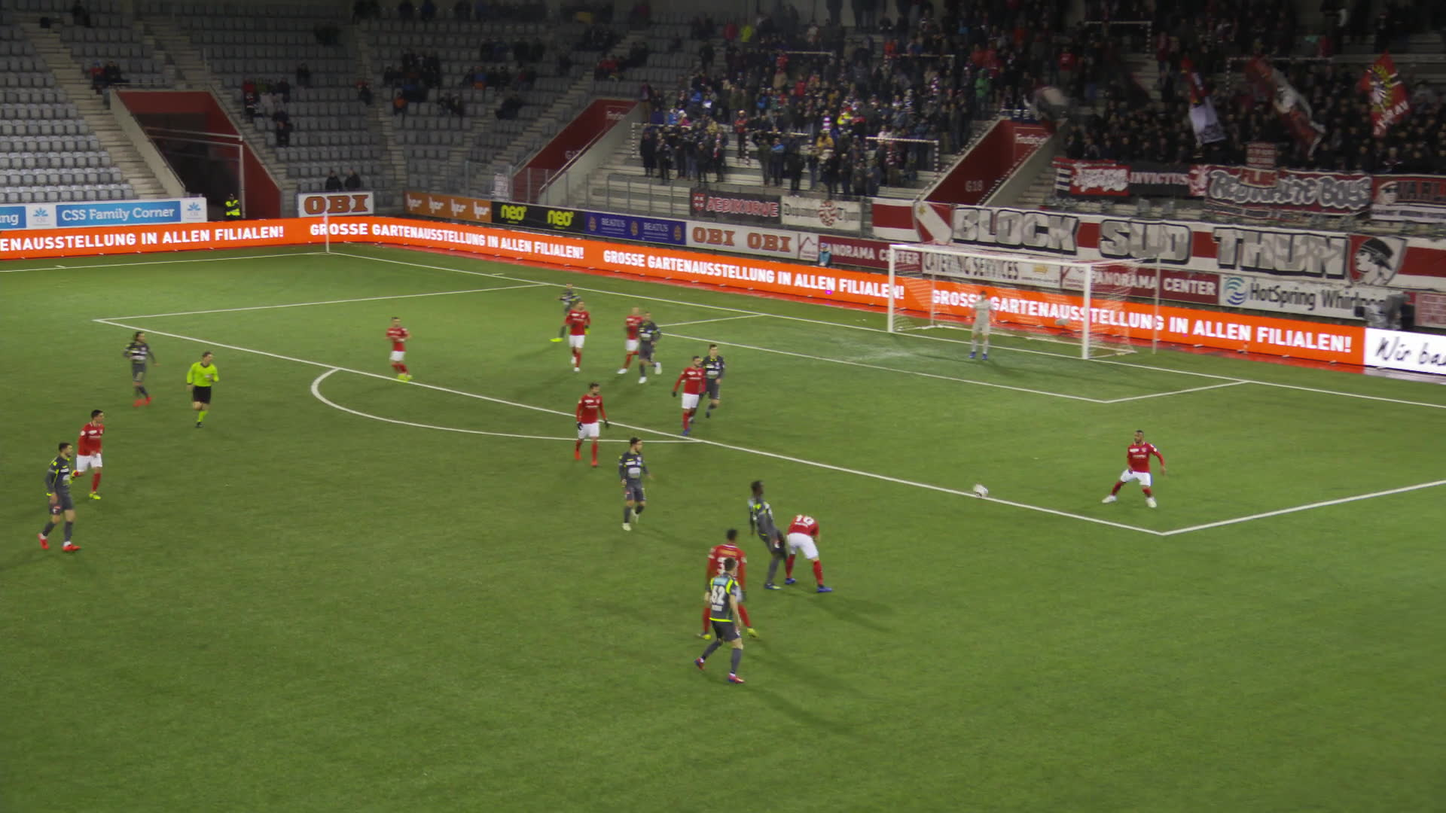ball: (959, 476, 980, 493)
player: (691, 558, 754, 687), (1100, 426, 1169, 515), (709, 527, 761, 644), (741, 477, 792, 591), (780, 506, 841, 592), (38, 440, 84, 554), (615, 434, 664, 531), (67, 404, 110, 499), (670, 352, 714, 440), (571, 379, 614, 468), (125, 329, 168, 410), (694, 340, 731, 420), (624, 303, 663, 374), (565, 297, 600, 373), (560, 279, 600, 345), (634, 307, 668, 384), (389, 314, 426, 384), (969, 288, 1000, 362)
referee: (189, 348, 225, 429)
